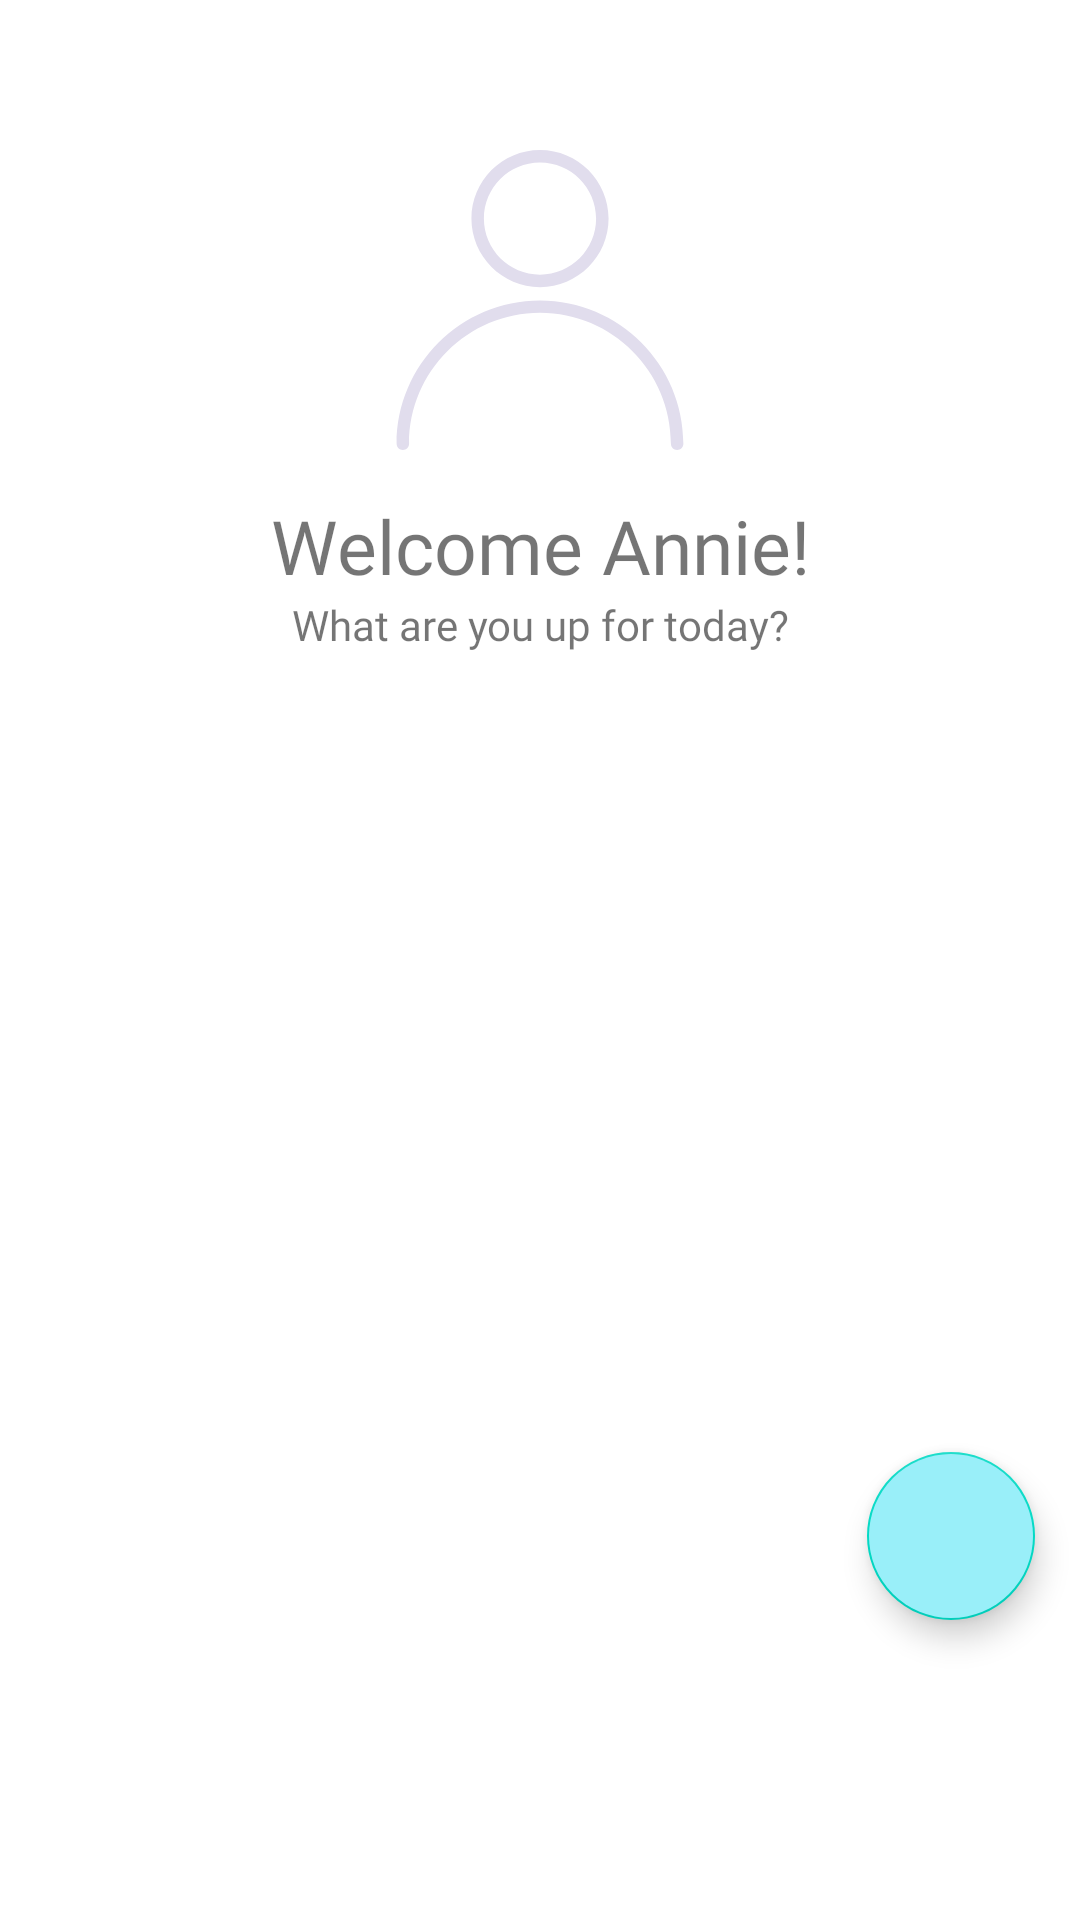

Named icons in this screenshot (1080x1920) and their bounding boxes, box=[x1, y1, x2, y2]:
user: box=[397, 150, 683, 450]
